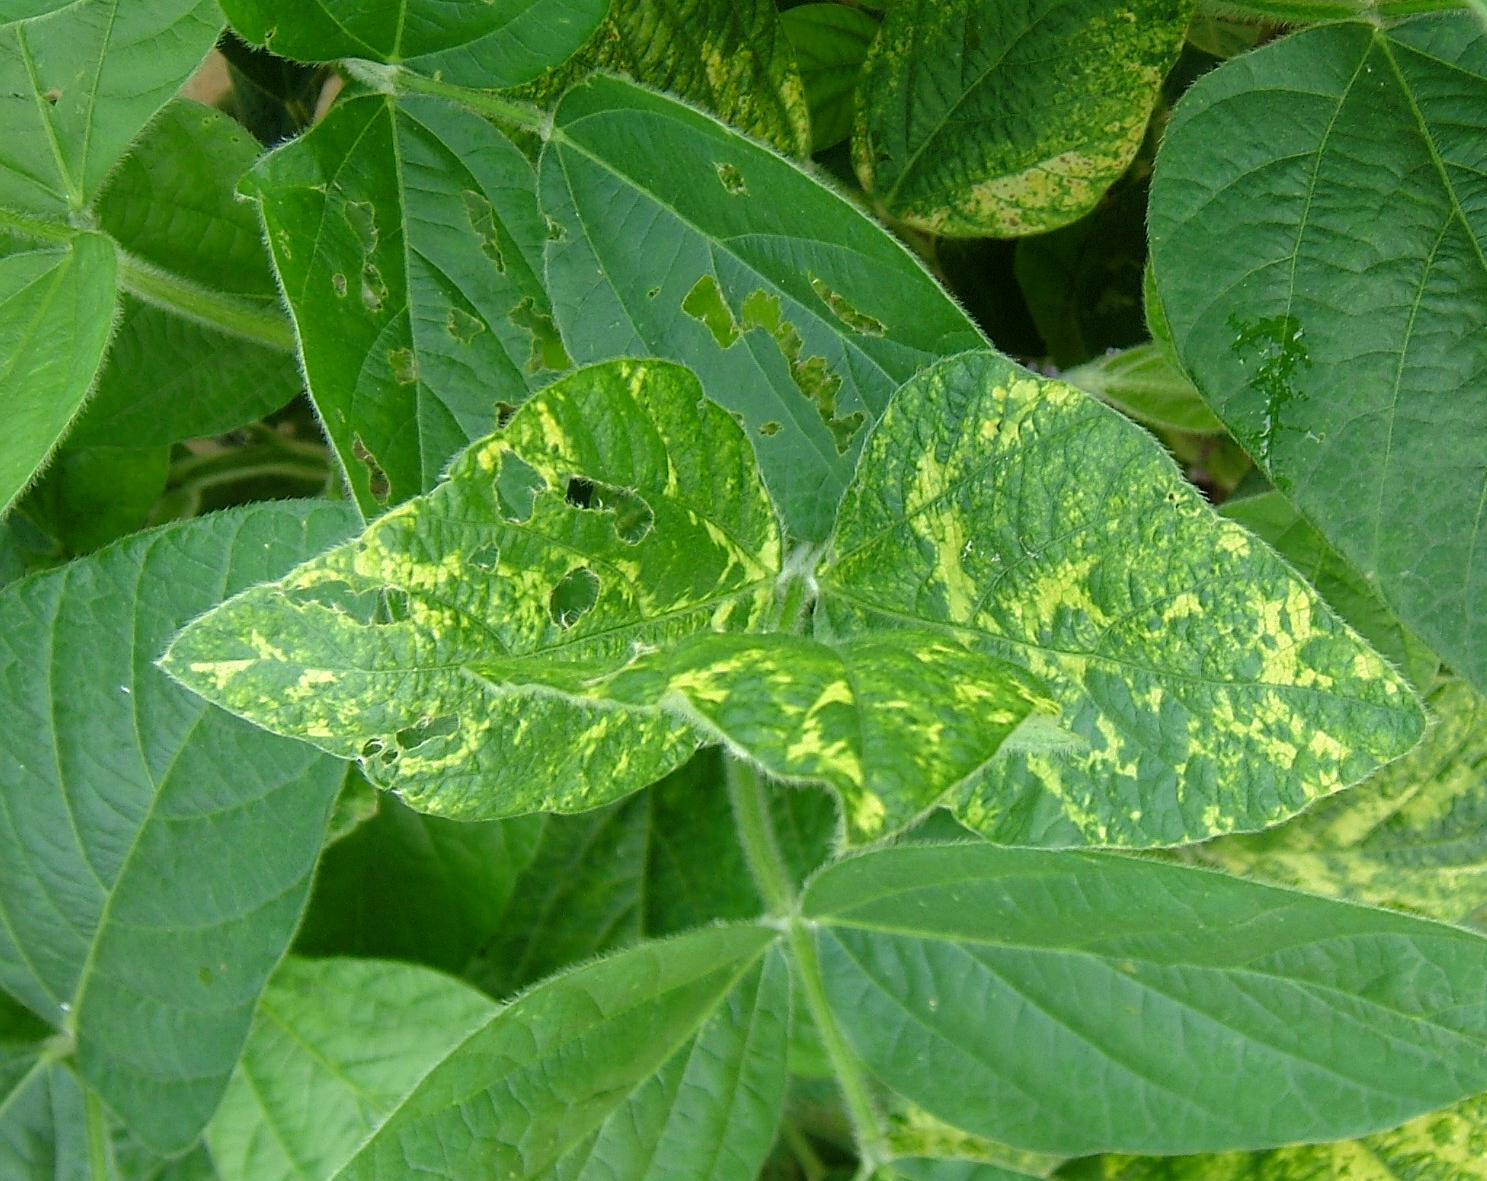Tomato leaf: (800, 837, 1487, 1168)
Tomato leaf mosaic virus: (154, 350, 782, 847), (824, 367, 1396, 827)
